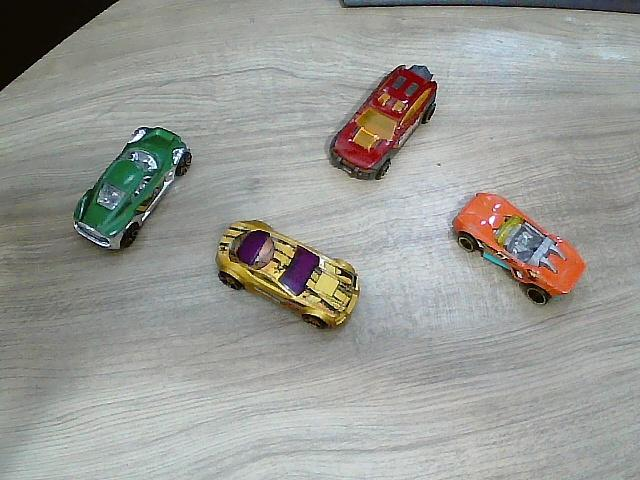Carro: (216, 220, 361, 329), (73, 128, 191, 251), (453, 194, 586, 303), (331, 66, 437, 180)
